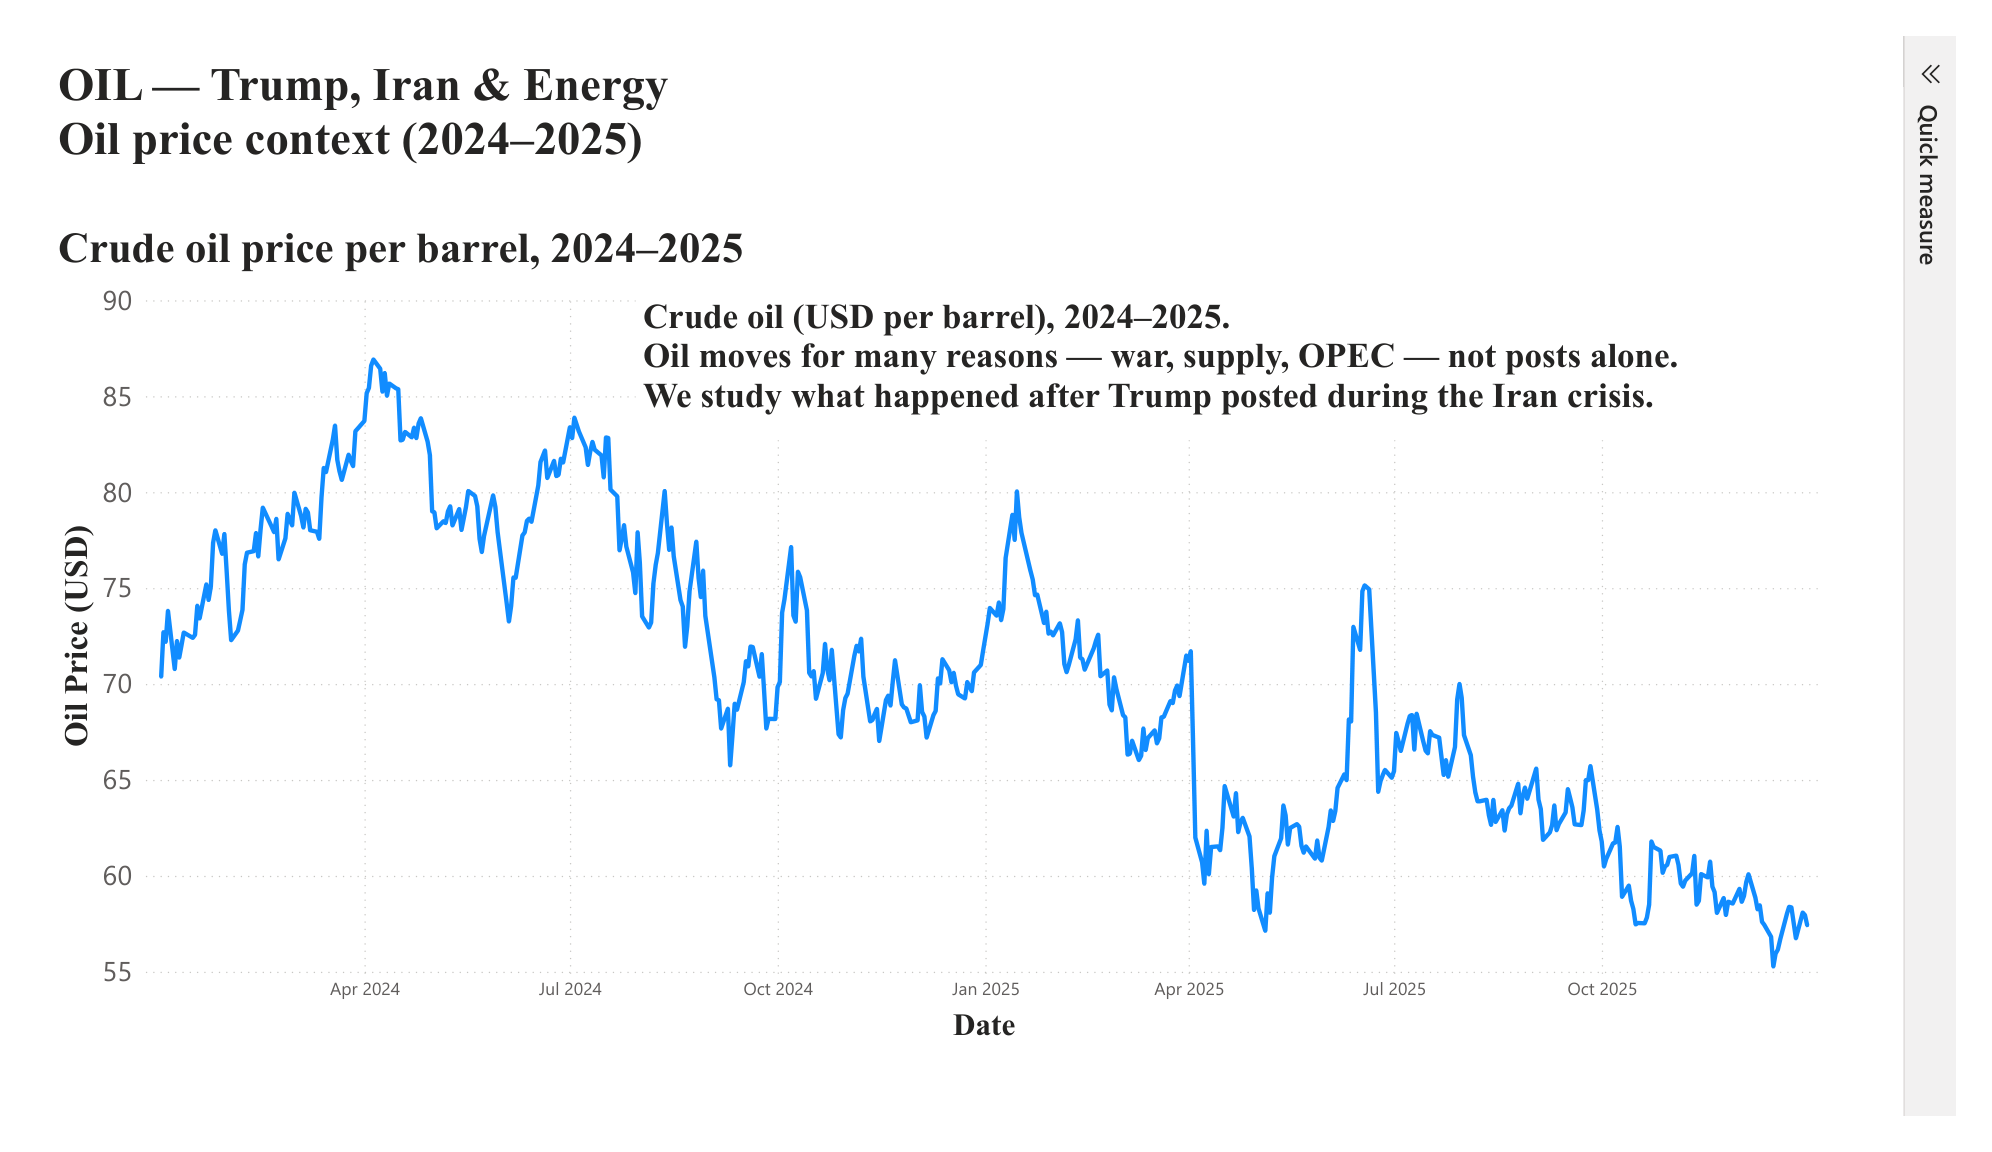

The page's visual inventory and layout, read from the dashboard file:
{"tool":"powerbi","page":{"name":"Oil- Price","canvas":[1280,720],"ordinal":5},"visuals":[{"type":"textbox","box":[10,0,702.9,91.4],"z":0},{"type":"lineChart","title":"\t Crude oil price per barrel, 2024–2025","fields":{"Category":["Market_Prices.date_only"],"Y":["Avg(Market_Prices.close)"]},"box":[10,118.6,1232.9,565.7],"z":1},{"type":"textbox","box":[411.4,164.3,868.6,102.9],"z":2}]}

Visuals, with their boxes on the page's 1280x720 design canvas (x1, y1, x2, y2). These are canvas units, not pixel positions in the 1992x1152 screenshot, which may show the page scaled, cropped or inside an application window:
textbox: (x1=10, y1=0, x2=713, y2=91)
"	 Crude oil price per barrel, 2024–2025" lineChart: (x1=10, y1=119, x2=1243, y2=684)
textbox: (x1=411, y1=164, x2=1280, y2=267)
